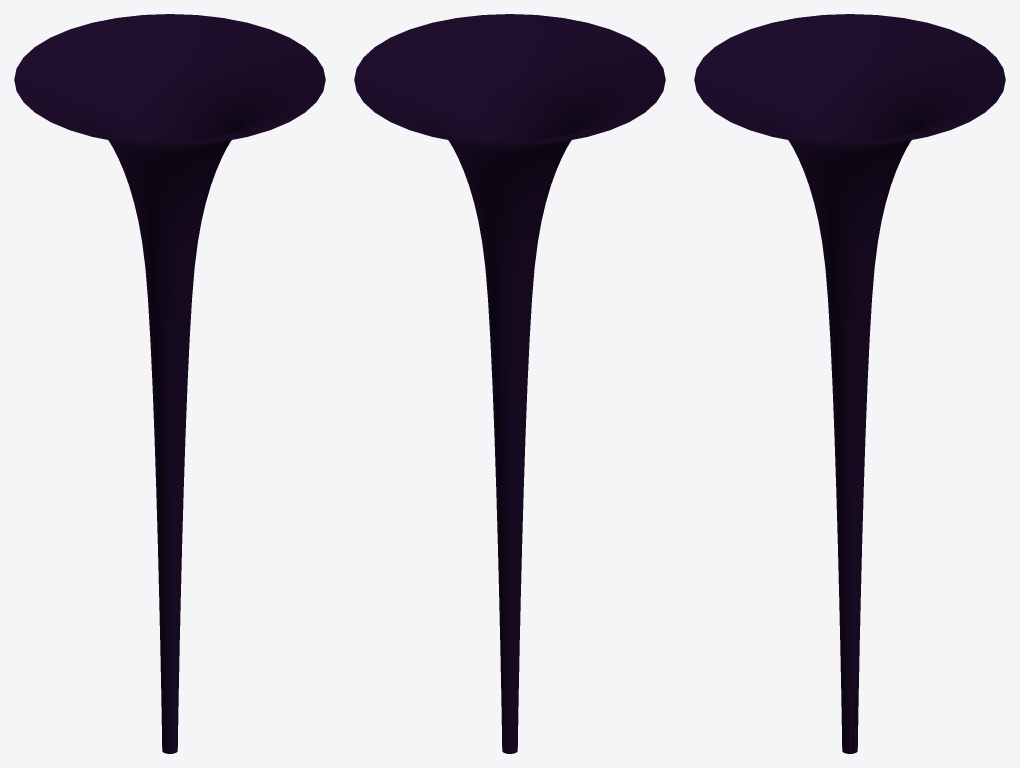
The model's file is well.fbx.
3 renders of one model, left to right at view 1: azimuth 30°, elevation 25°; view 2: azimuth 150°, elevation 25°; view 3: azimuth 270°, elevation 25°, orthographic.
Visible parts, largest first — view 1: BezierCurve; view 2: BezierCurve; view 3: BezierCurve.
Part boxes in pixels (x1,y1,x2,y2): BezierCurve: (14,14,325,753); BezierCurve: (354,14,665,753); BezierCurve: (694,14,1005,753).
Size of the model in its own units: 400 by 950 by 400.
